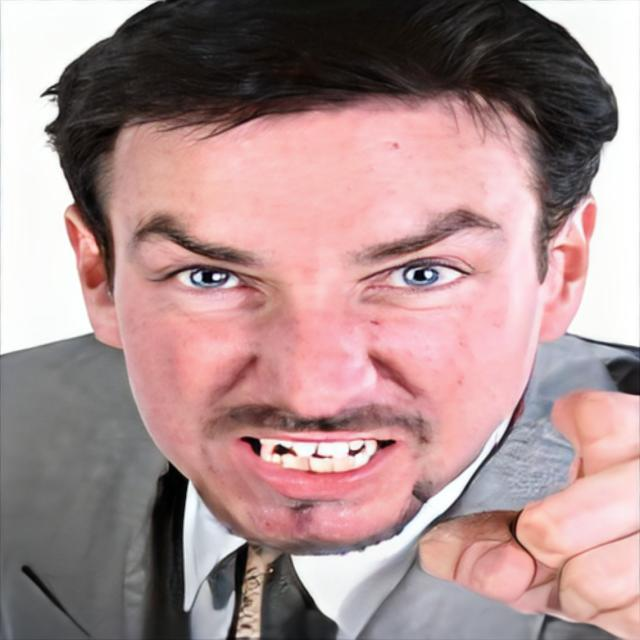anger: (122, 88, 532, 544)
